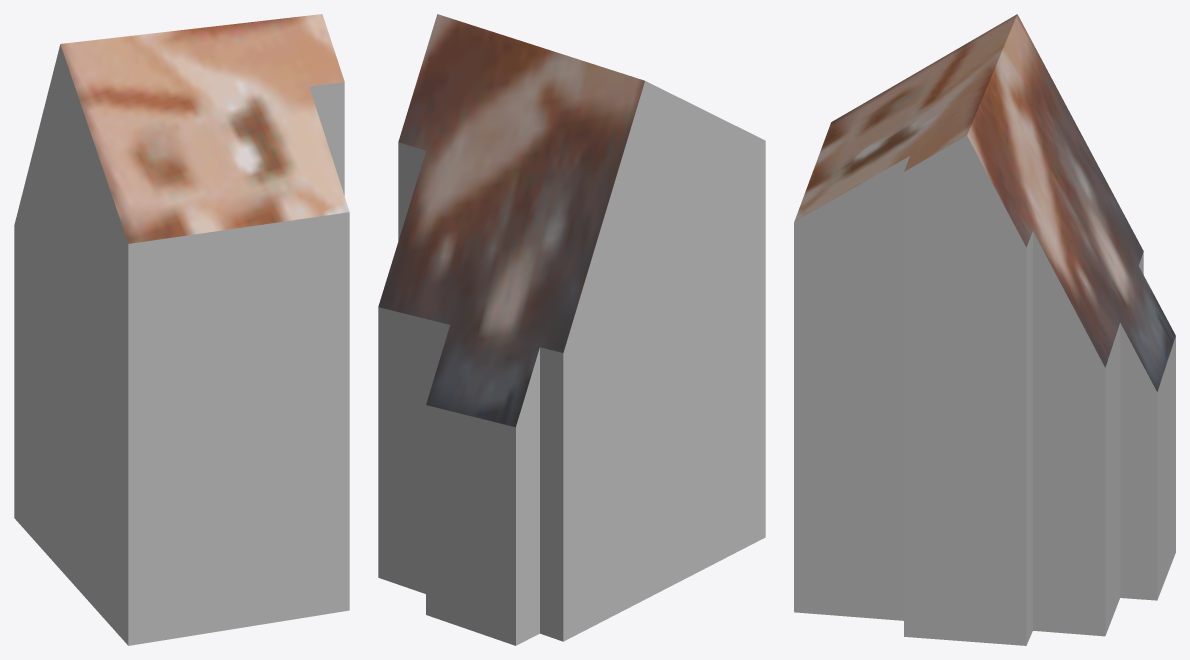
Rendered from DEBW_0010007Tx51.gltf.
3 renders of one model, left to right at view 1: azimuth 30°, elevation 25°; view 2: azimuth 150°, elevation 25°; view 3: azimuth 270°, elevation 25°, orthographic. The views are drawn at different scales.
Parts seen in each view (by area): view 1: Z_UP; view 2: Z_UP; view 3: Z_UP.
Part boxes in pixels (x1,y1,x2,y2): Z_UP: (14,14,349,645); Z_UP: (378,14,765,645); Z_UP: (794,14,1175,645).
Size of the model in its own units: 9.96 by 18.35 by 12.34.
2 materials, 1 textured.
